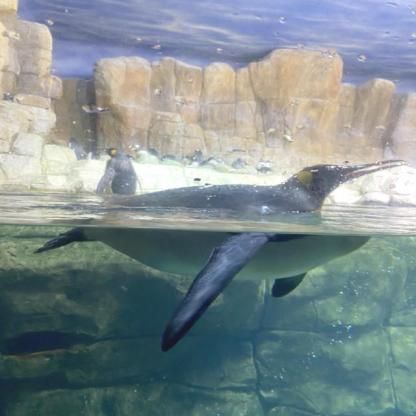penguin: (34, 159, 406, 352), (97, 147, 138, 196), (66, 136, 88, 158), (189, 148, 204, 167)
